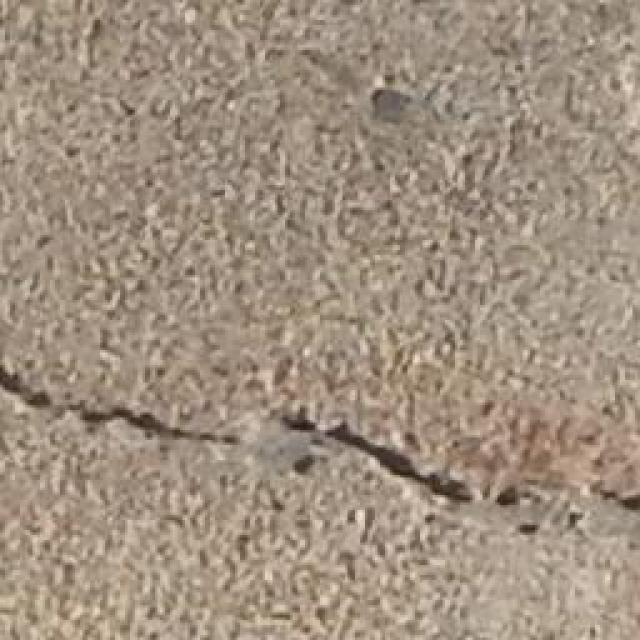concrete-crack: (0, 357, 640, 518)
